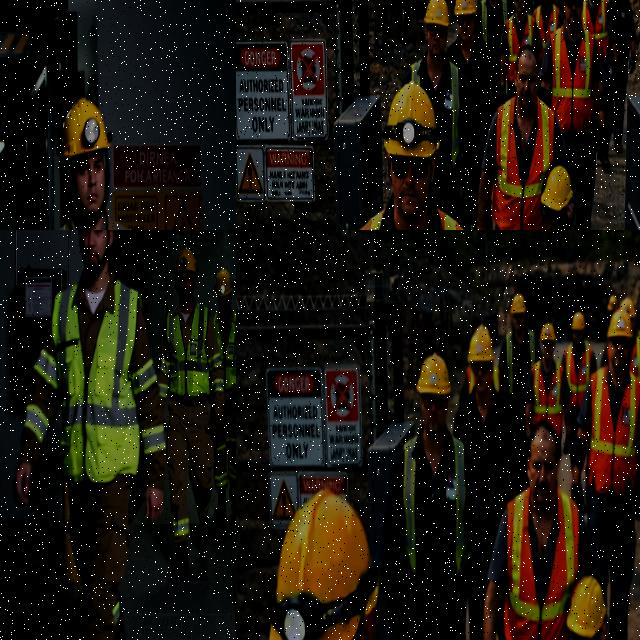Vest: (52, 280, 140, 483), (504, 488, 579, 639), (492, 97, 554, 229), (587, 367, 639, 498), (550, 26, 593, 134), (166, 304, 209, 397), (531, 360, 563, 438), (403, 437, 417, 578), (506, 14, 534, 84), (565, 343, 591, 411), (582, 0, 609, 61), (215, 313, 235, 390), (534, 4, 559, 56), (448, 61, 460, 169), (438, 210, 462, 229), (506, 333, 513, 395), (481, 0, 487, 43), (492, 367, 500, 392), (110, 221, 127, 229)
Worker: (14, 230, 165, 639), (381, 354, 491, 639), (483, 423, 595, 639), (158, 249, 224, 582), (572, 311, 639, 639), (478, 47, 574, 229), (403, 0, 480, 225), (269, 491, 378, 639), (539, 0, 607, 229), (360, 83, 462, 229), (454, 371, 527, 547), (447, 0, 503, 165), (59, 98, 128, 229), (499, 293, 541, 454), (524, 323, 571, 453), (213, 269, 235, 518), (582, 0, 618, 135), (562, 312, 596, 451), (608, 0, 636, 153), (499, 0, 541, 97), (460, 325, 508, 401), (476, 0, 513, 73), (533, 0, 563, 57)
helmet: (269, 490, 377, 639), (58, 98, 111, 177), (383, 82, 438, 158), (566, 576, 606, 639), (416, 352, 450, 395), (541, 165, 572, 212), (468, 325, 493, 363), (607, 308, 633, 339), (424, 0, 449, 28), (174, 249, 198, 276), (214, 269, 235, 296), (454, 0, 476, 17), (510, 293, 526, 315), (621, 297, 636, 319), (570, 312, 586, 332), (540, 323, 556, 342), (607, 295, 618, 311), (563, 0, 567, 2)
